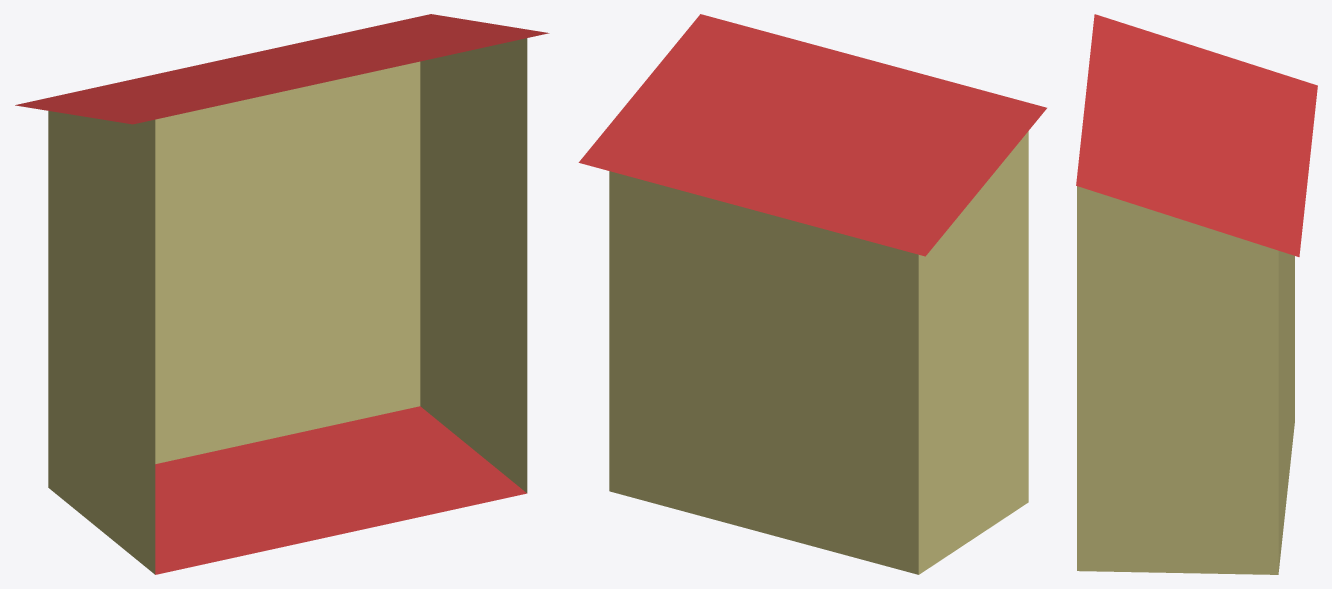
The picture shows the model from 3 angles, left to right: view 1: azimuth 30°, elevation 25°; view 2: azimuth 150°, elevation 25°; view 3: azimuth 270°, elevation 25°; orthographic projection. The views are drawn at different scales.
Bounding box in the file's own units: 9.49 × 5.51 × 9.92.
